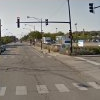crosswalk: (0, 81, 99, 96)
